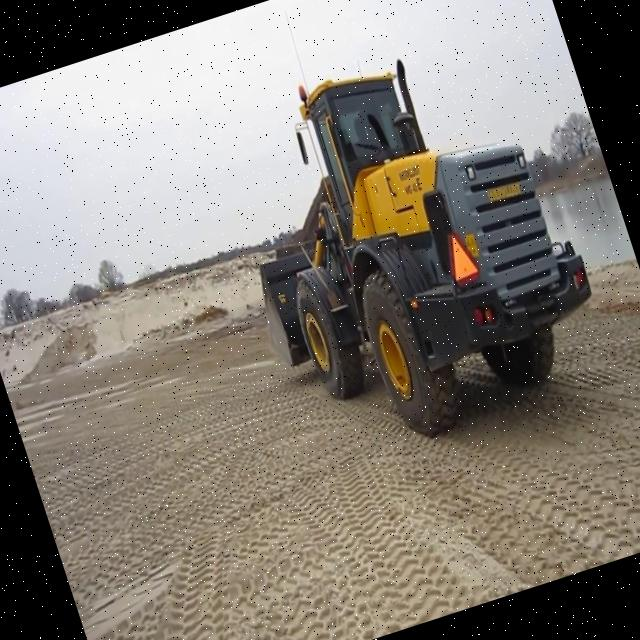Loader: (171, 0, 622, 478)
